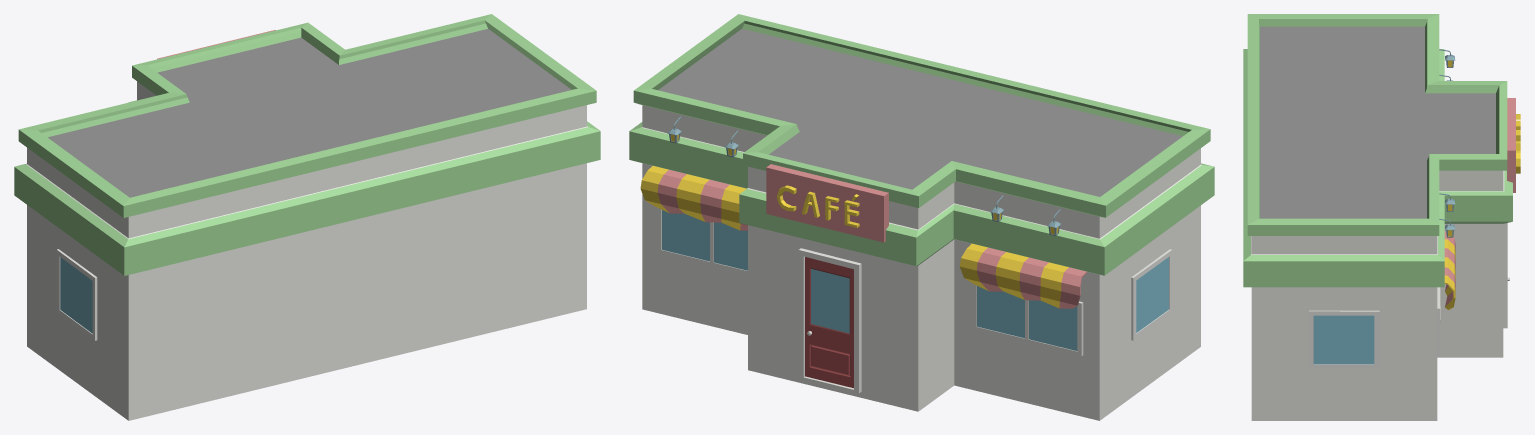
File: house.fbx
The picture shows the model from 3 angles, left to right: view 1: azimuth 30°, elevation 25°; view 2: azimuth 150°, elevation 25°; view 3: azimuth 270°, elevation 25°; orthographic projection. The views are drawn at different scales.
Visible parts, largest first — view 1: huitugou_2131_693; view 2: huitugou_2131_693; view 3: huitugou_2131_693.
Part boxes in pixels (x1,y1,x2,y2): huitugou_2131_693: (14, 14, 600, 420); huitugou_2131_693: (629, 14, 1214, 420); huitugou_2131_693: (1243, 14, 1520, 420).
Bounding box in the file's own units: 1928 × 847 × 1065.
